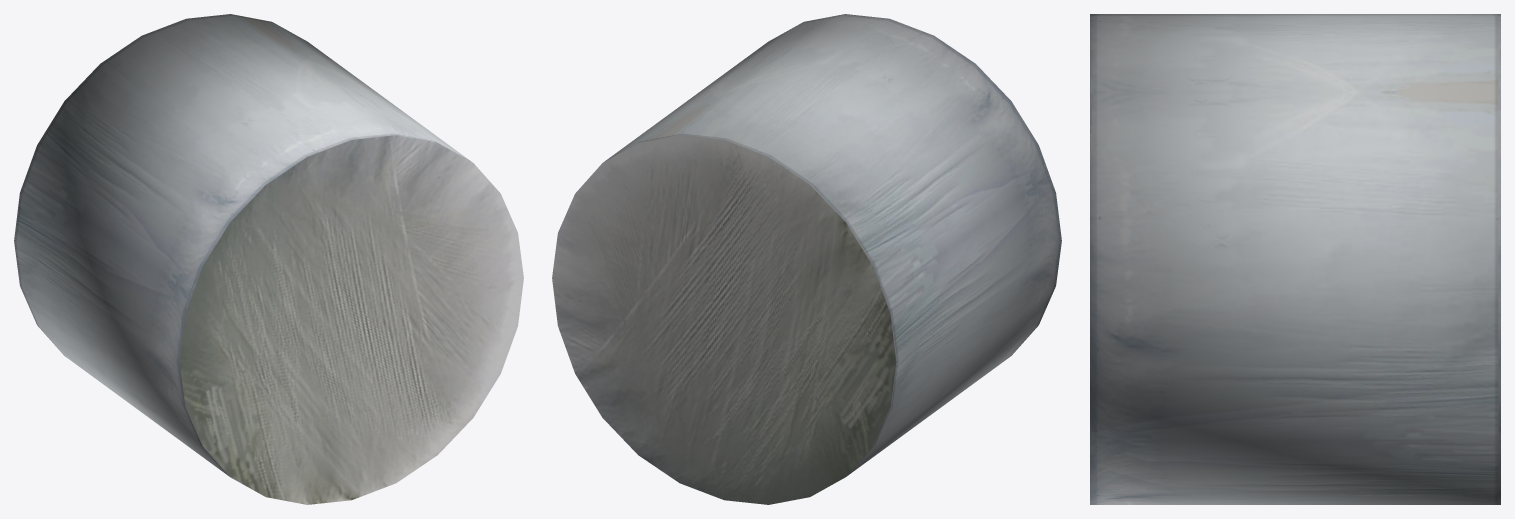
The model's file is hay-bale-plastic-cbj_LOD00.gltf.
3 views of the same model, side by side, from view 1: azimuth 30°, elevation 25°; view 2: azimuth 150°, elevation 25°; view 3: azimuth 270°, elevation 25° (orthographic). The views are drawn at different scales.
Parts seen in each view (by area): view 1: Cube; view 2: Cube; view 3: Cube.
Boxes of the visible parts, left/top/right/bottom form: Cube: left=14, top=14, right=523, bottom=504; Cube: left=552, top=14, right=1061, bottom=504; Cube: left=1090, top=14, right=1500, bottom=504.
Bounding box in the file's own units: 1.8 × 1.8 × 1.5.
